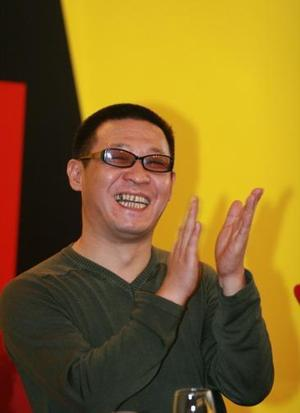person: (2, 102, 276, 412)
